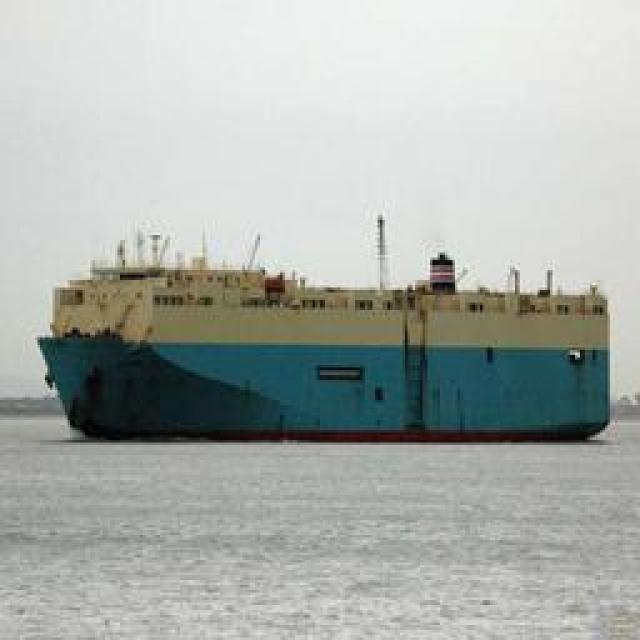ship2: (36, 214, 612, 446)
